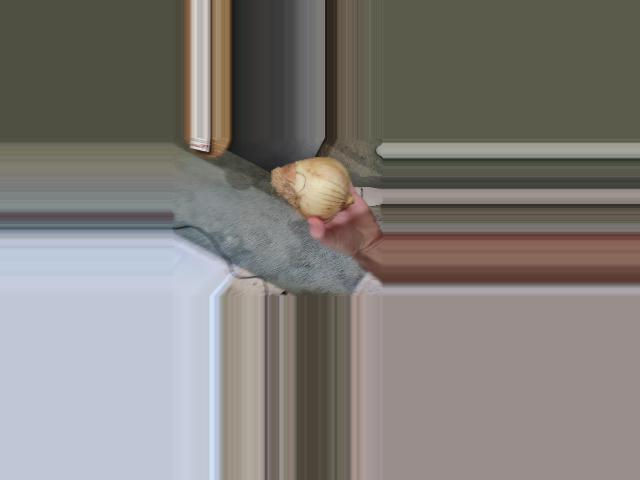onion: (268, 161, 348, 221)
